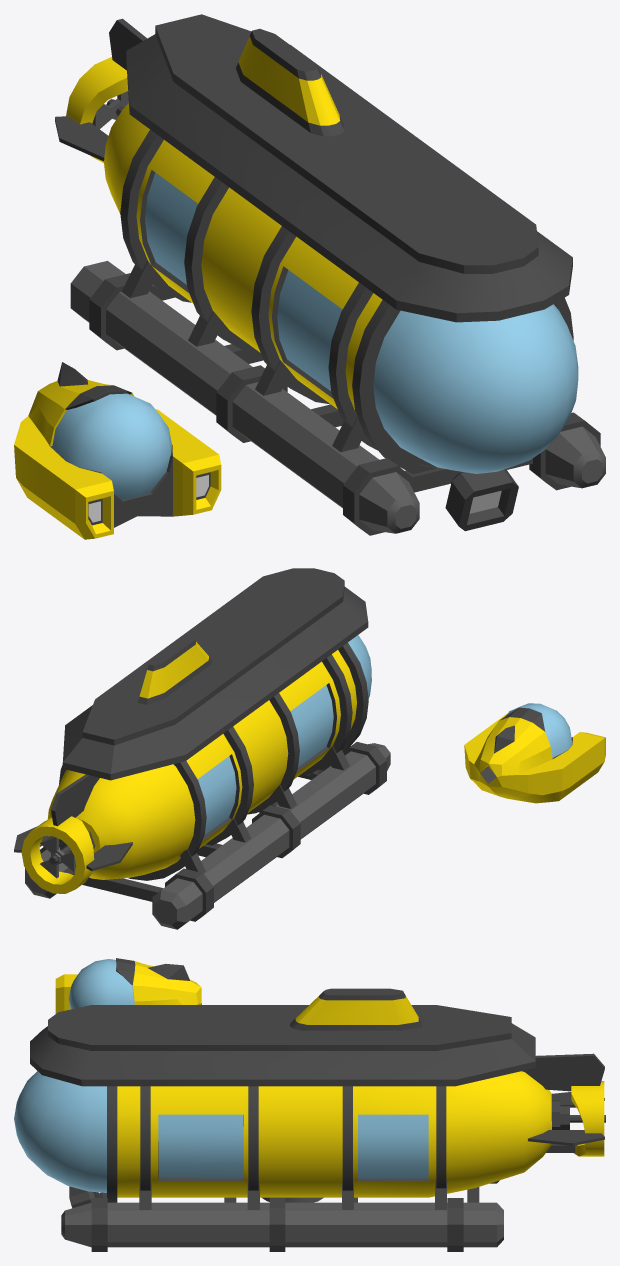
The model's file is Submarines.fbx.
3 renders of one model, top to bottom at view 1: azimuth 30°, elevation 25°; view 2: azimuth 150°, elevation 25°; view 3: azimuth 270°, elevation 25°, orthographic. The views are drawn at different scales.
Visible parts, largest first — view 1: Large Submarine, Large Windows, Mini Sub, Small Windows; view 2: Large Submarine, Mini Sub, Large Windows, Small Windows, Propellor; view 3: Large Submarine, Large Windows, Mini Sub, Small Windows.
Part boxes in pixels (left/top/right/bottom): Large Submarine: left=55, top=14, right=605, bottom=535; Large Windows: left=145, top=172, right=578, bottom=473; Mini Sub: left=14, top=362, right=221, bottom=539; Small Windows: left=52, top=393, right=171, bottom=499; Large Submarine: left=14, top=568, right=390, bottom=929; Mini Sub: left=464, top=707, right=605, bottom=803; Large Windows: left=197, top=635, right=371, bottom=834; Small Windows: left=505, top=703, right=572, bottom=757; Propellor: left=40, top=837, right=76, bottom=878; Large Submarine: left=30, top=988, right=605, bottom=1251; Large Windows: left=14, top=1071, right=428, bottom=1192; Mini Sub: left=55, top=958, right=201, bottom=1013; Small Windows: left=68, top=959, right=134, bottom=1009.
Size of the model in its own units: 1091 by 631 by 1462.
